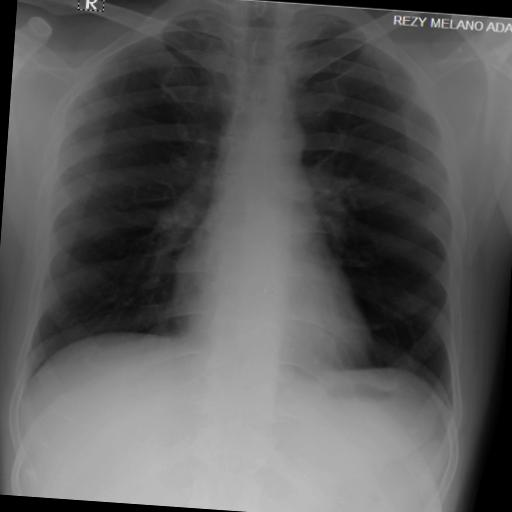normal: (10, 0, 498, 451)
